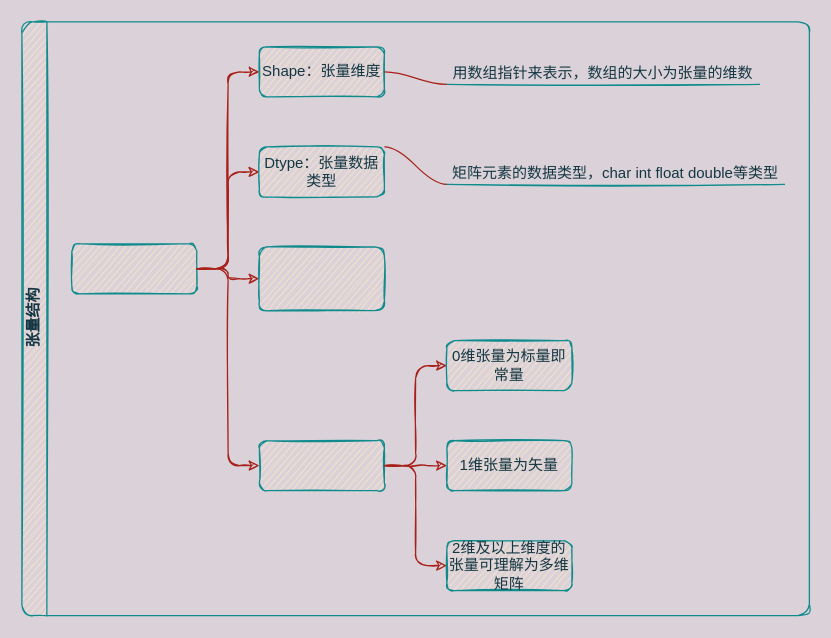
Image size: 831x638. Some labels were removed from this diagram. The shapes that lost their labels are listed below. From the top down, each one's centre as x and y in pixels, then its label:
At [134,268]: "Tensor".
At [321,278]: "Matrix：张量最基本的构成单位二维矩阵".
At [321,465]: "Dimension：张量维数".
